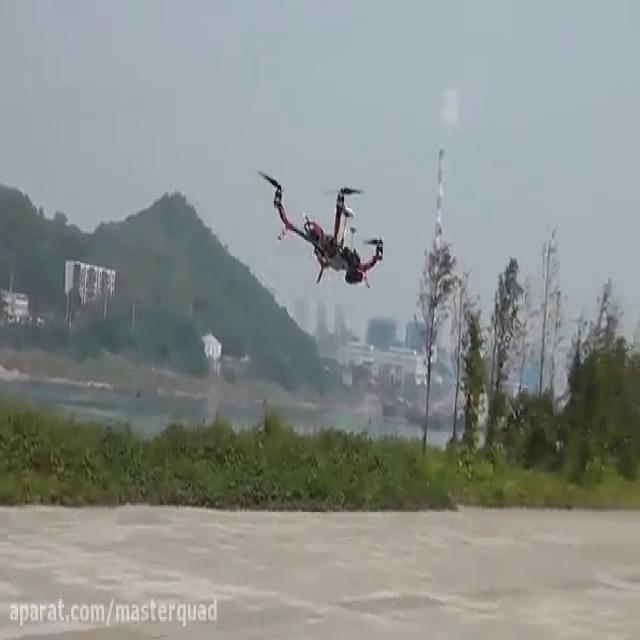drone: (257, 162, 391, 296)
